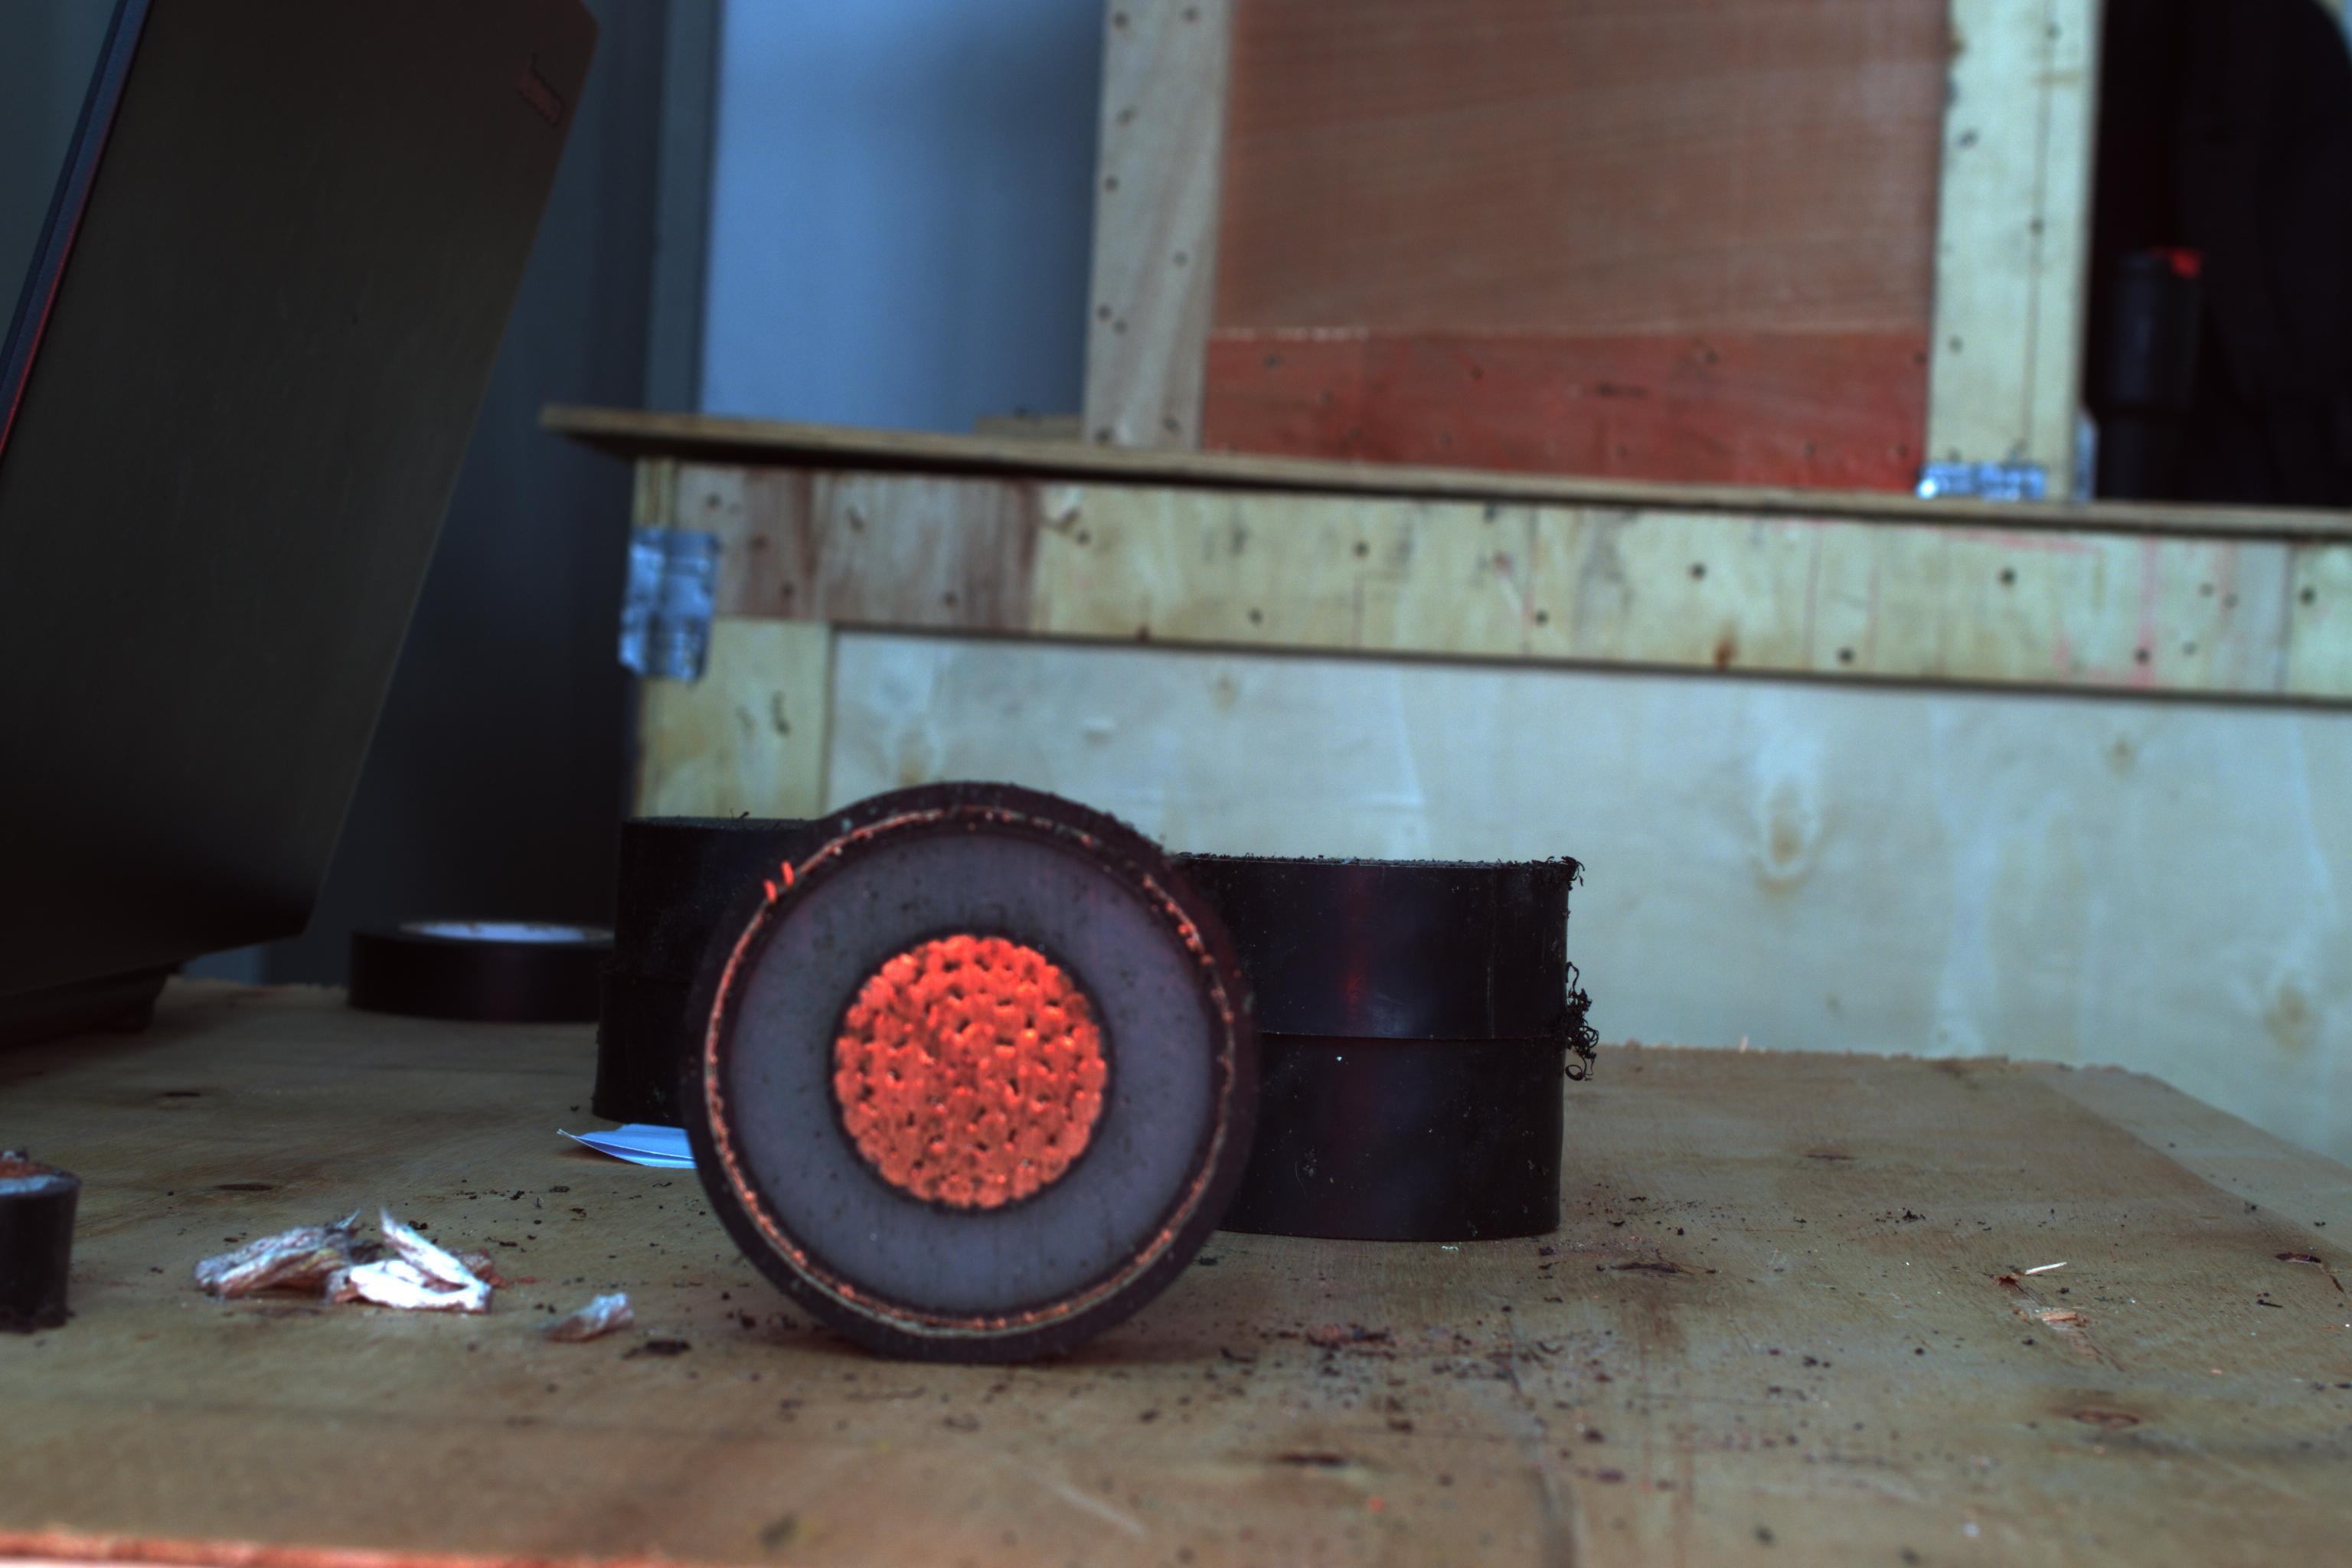YJV_26_35kV_1x630: (670, 796, 1256, 1361)
